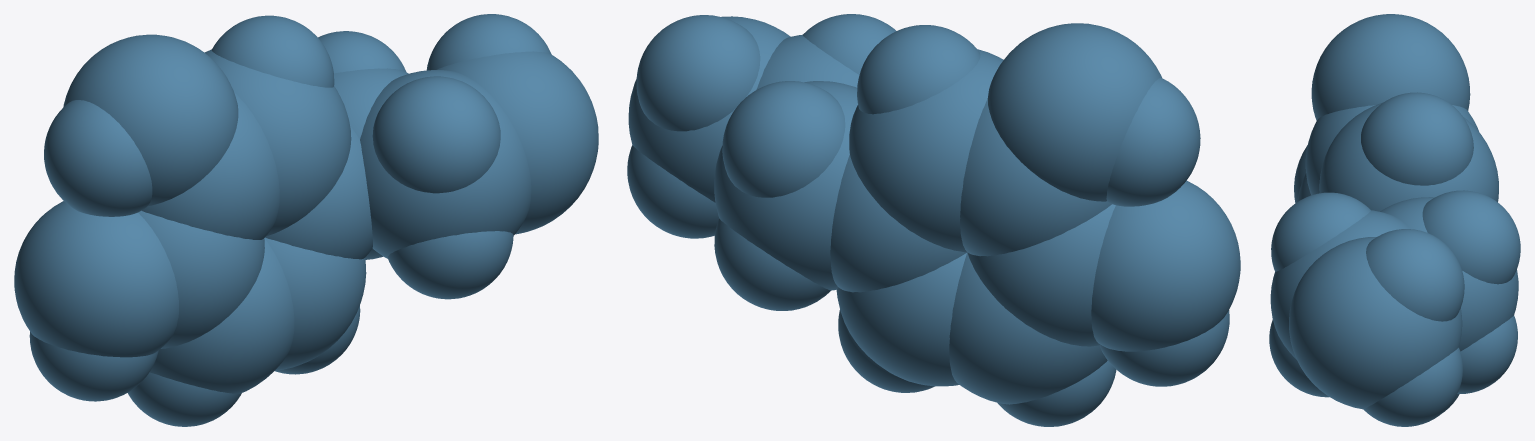
File: 681-CPK-print_NIH3D.glb
The picture shows the model from 3 angles, left to right: view 1: azimuth 30°, elevation 25°; view 2: azimuth 150°, elevation 25°; view 3: azimuth 270°, elevation 25°; orthographic projection. The views are drawn at different scales.
Visible parts, largest first — view 1: atoms; view 2: atoms; view 3: atoms.
Part boxes in pixels (x1,y1,x2,y2): atoms: [14, 14, 598, 426]; atoms: [627, 14, 1240, 426]; atoms: [1269, 14, 1520, 426].
Bounding box in the file's own units: 10.9 × 7.11 × 4.75.
